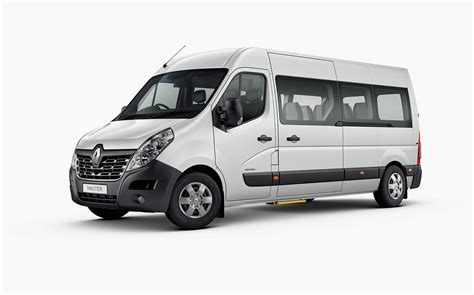bus: (73, 47, 424, 224)
